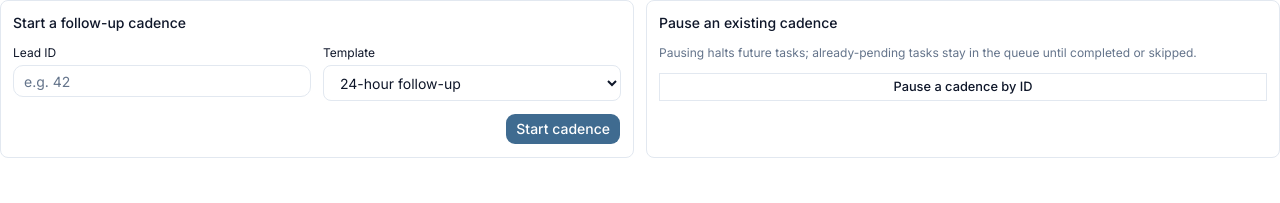
Test: CreateCadenceForm › blocks submit on invalid lead id and does not hit the API
What coordinates should you click on to do the following:
click the button with test id "create-cadence-submit"
I would click on:
 (563, 129)
Its box is [505,113,621,145].
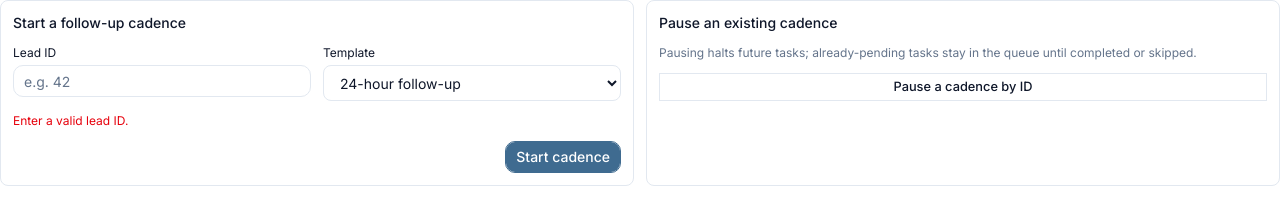
Now the text with test id "create-cadence-error" shows "valid lead ID", box [13,113,128,128]
